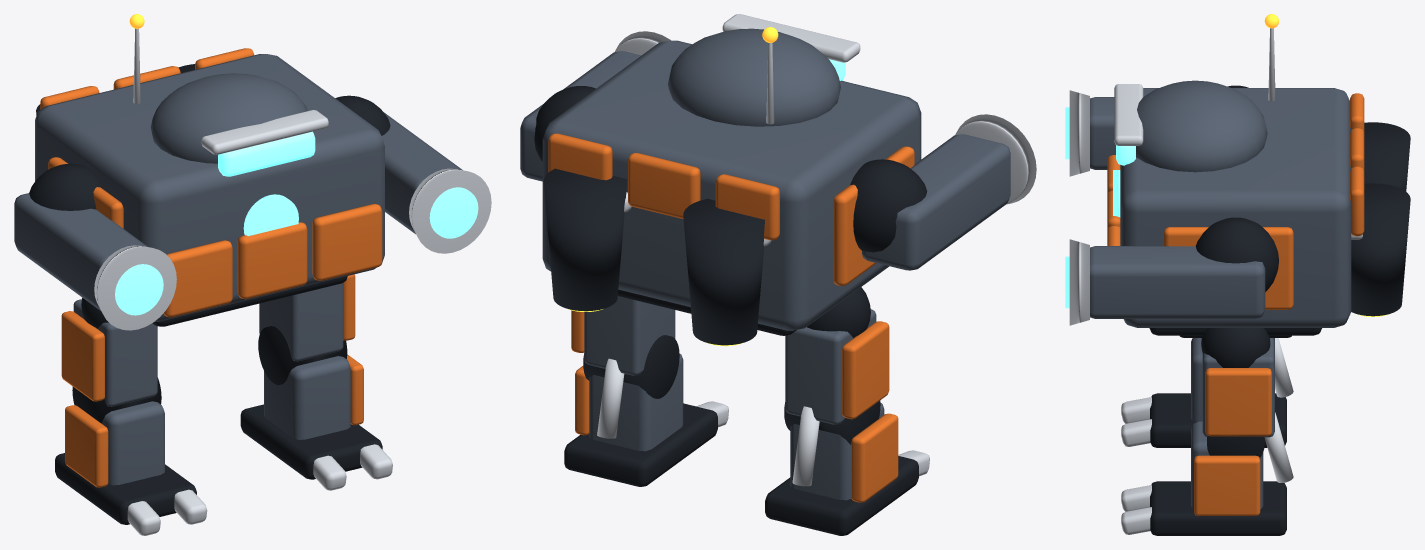
The model's file is mech.glb.
3 renders of one model, left to right at view 1: azimuth 30°, elevation 25°; view 2: azimuth 150°, elevation 25°; view 3: azimuth 270°, elevation 25°, orthographic. The views are drawn at different scales.
Parts seen in each view (by area): view 1: Hull, Cockpit, Arm R, legL Shin, legL Thigh, plate_front_3, plate_front_1, legR Shin, legL Foot, legR Thigh, plate_front_2, Arm L (+25 smaller); view 2: Hull, Cockpit, Arm R, Nozzle 1, Nozzle -1, legL Foot, legR Thigh, legL Thigh, legR Foot, Shoulder R, legL Shin, plate_right_2 (+18 smaller); view 3: Hull, Arm L, Cockpit, Nozzle 1, legL Foot, plate_left_2, plate_left_3, Shoulder L, Nozzle -1, legR Foot, plate_left_1, legL Hip (+19 smaller).
Boxes of the visible parts, bbox=[...] form: Hull: bbox=[35, 54, 384, 321]; Cockpit: bbox=[150, 73, 307, 163]; Arm R: bbox=[14, 193, 147, 310]; legL Shin: bbox=[264, 356, 350, 439]; legL Thigh: bbox=[259, 283, 343, 361]; plate_front_3: bbox=[312, 204, 382, 280]; plate_front_1: bbox=[237, 222, 307, 299]; legR Shin: bbox=[101, 401, 164, 485]; legL Foot: bbox=[240, 404, 382, 479]; legR Thigh: bbox=[73, 299, 157, 406]; plate_front_2: bbox=[163, 240, 232, 317]; Arm L: bbox=[381, 112, 462, 234]; Hull: bbox=[542, 40, 921, 330]; Cockpit: bbox=[668, 28, 840, 126]; Arm R: bbox=[862, 134, 1010, 270]; Nozzle 1: bbox=[543, 168, 627, 311]; Nozzle -1: bbox=[683, 198, 764, 345]; legL Foot: bbox=[564, 403, 717, 486]; legR Thigh: bbox=[785, 309, 876, 424]; legL Thigh: bbox=[584, 296, 675, 375]; legR Foot: bbox=[765, 456, 918, 535]; Shoulder R: bbox=[850, 159, 927, 252]; legL Shin: bbox=[589, 354, 683, 451]; plate_right_2: bbox=[842, 321, 889, 419]; Hull: bbox=[1120, 88, 1351, 327]; Arm L: bbox=[1090, 246, 1265, 318]; Cockpit: bbox=[1136, 80, 1267, 172]; Nozzle 1: bbox=[1351, 183, 1410, 316]; legL Foot: bbox=[1150, 481, 1286, 535]; plate_left_2: bbox=[1205, 368, 1271, 436]; plate_left_3: bbox=[1194, 455, 1260, 515]; Shoulder L: bbox=[1195, 217, 1278, 291]; Nozzle -1: bbox=[1364, 122, 1410, 191]; legR Foot: bbox=[1150, 393, 1286, 447]; plate_left_1: bbox=[1163, 227, 1293, 309]; legL Hip: bbox=[1201, 328, 1270, 367].
Bounding box in the file's own units: 3.04 × 3.34 × 2.39.
